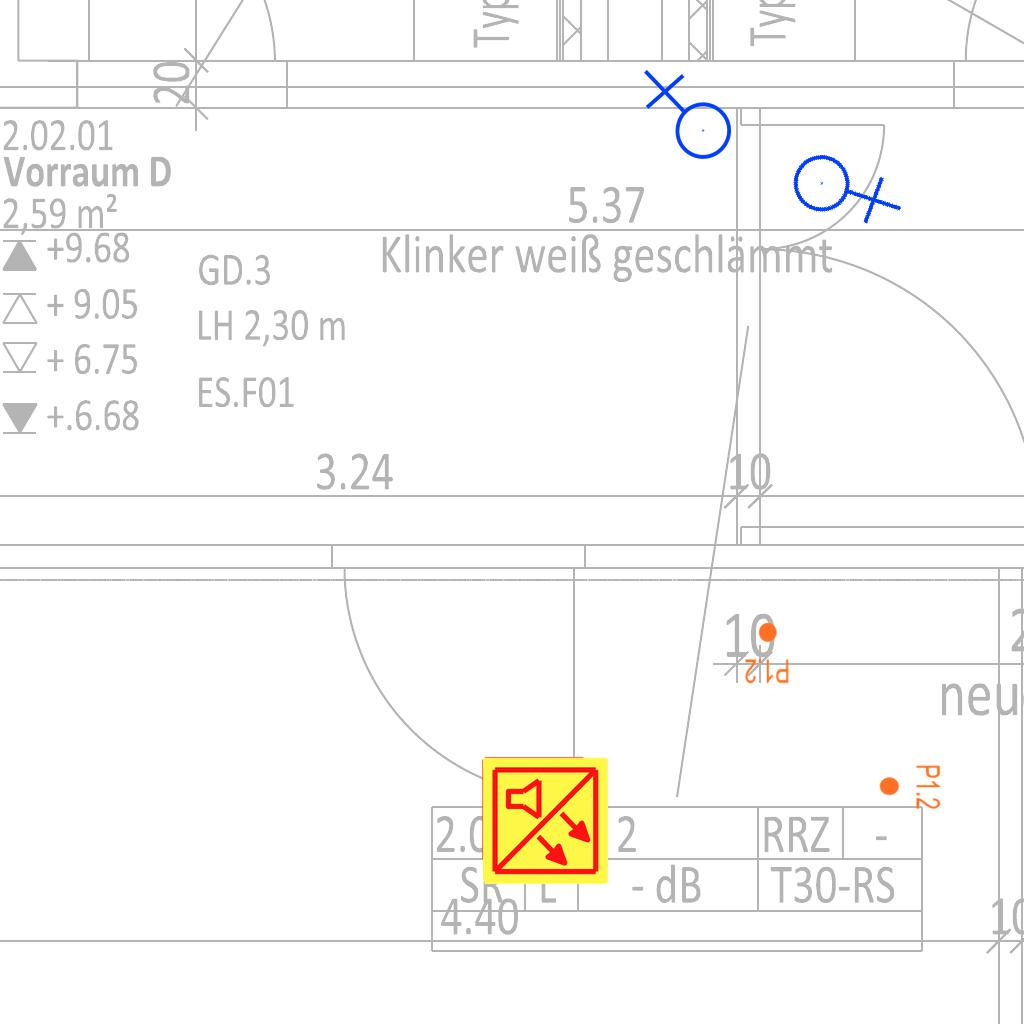Downlight_LED_Einbauleuchten_Flur: (878, 764, 942, 810), (744, 621, 790, 685)
Elektroanschluss_allgemein_230V_Geraeteanschlussdose_230V: (777, 120, 908, 252), (639, 69, 733, 168)
OKW_Multisensormelder_(Kombination_optischer_Rauch-Kahlenmonoxid_Waerme-Melder): (479, 755, 611, 887)
